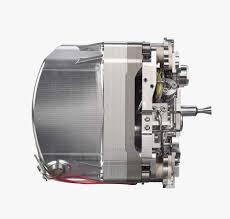thruster: (197, 103, 214, 118)
